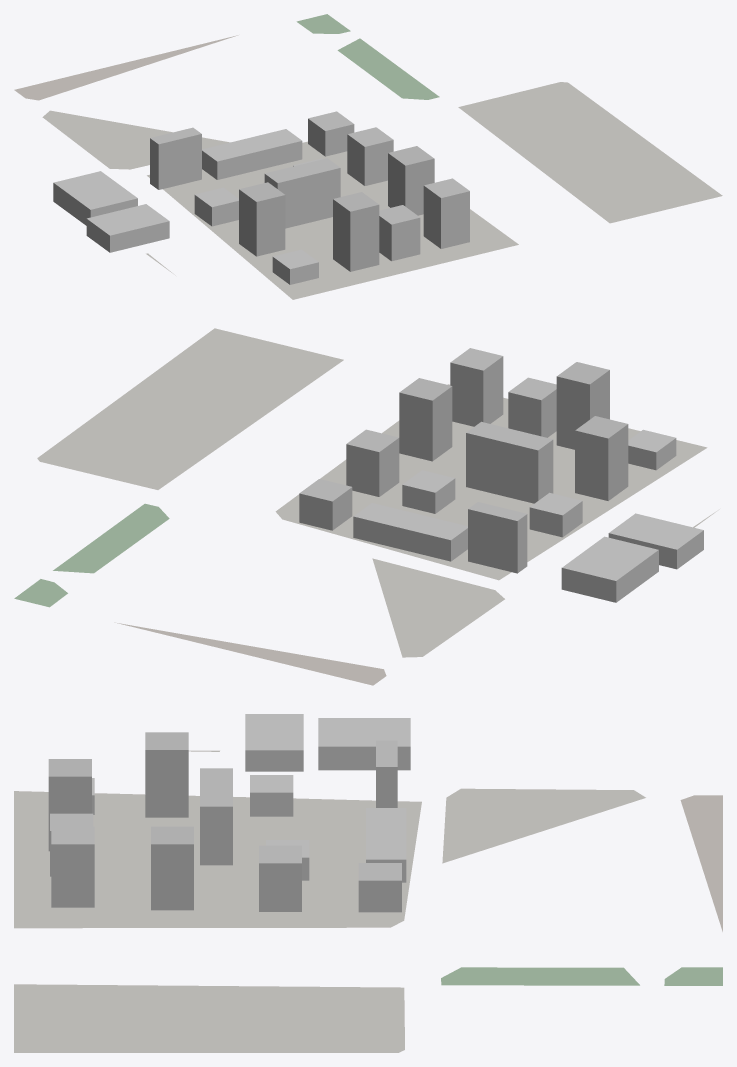
File: 122_70_mid.glb
The picture shows the model from 3 angles, top to bottom: view 1: azimuth 30°, elevation 25°; view 2: azimuth 150°, elevation 25°; view 3: azimuth 270°, elevation 25°; orthographic projection. The views are drawn at different scales.
Size of the model in its own units: 526 by 59.43 by 500.
